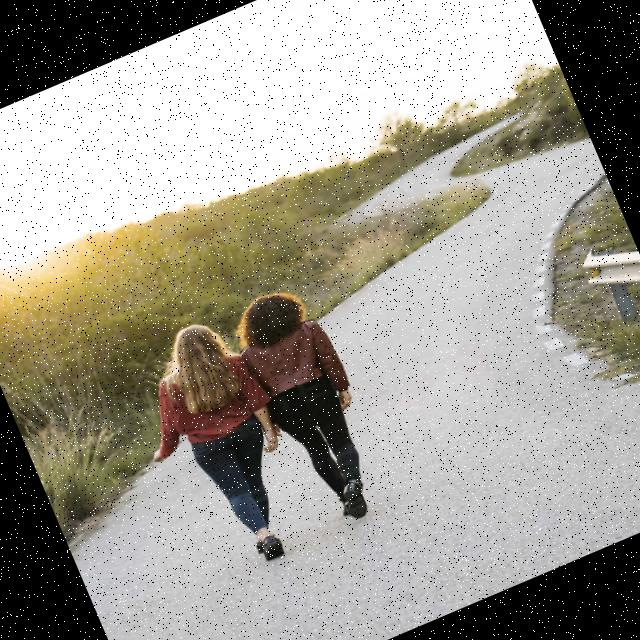Person: (114, 308, 326, 586), (226, 276, 402, 533)
